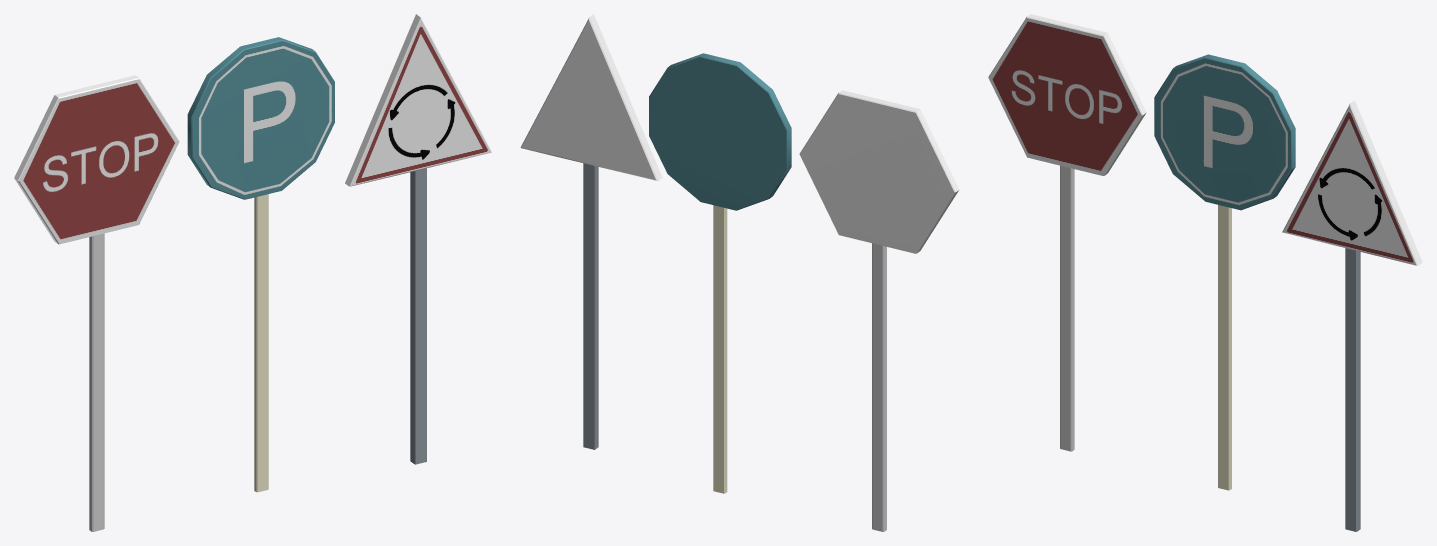
Rendered from Sinais de Trânsito.FBX.
3 views of the same model, side by side, from view 1: azimuth 30°, elevation 25°; view 2: azimuth 150°, elevation 25°; view 3: azimuth 330°, elevation 25° (orthographic). The views are drawn at different scales.
Visible parts, largest first — view 1: Cylinder001, Cylinder002, Box001; view 2: Cylinder001, Cylinder002, Box001; view 3: Cylinder001, Cylinder002, Box001.
Part boxes in pixels (x1,y1,x2,y2): Cylinder001: [14, 75, 179, 531]; Cylinder002: [187, 37, 334, 492]; Box001: [345, 14, 491, 464]; Cylinder001: [799, 90, 959, 531]; Cylinder002: [649, 53, 791, 493]; Box001: [520, 14, 662, 449]; Cylinder001: [988, 14, 1146, 451]; Cylinder002: [1154, 54, 1295, 490]; Box001: [1282, 100, 1422, 531].
Bounding box in the file's own units: 114 × 106 × 7.37.
